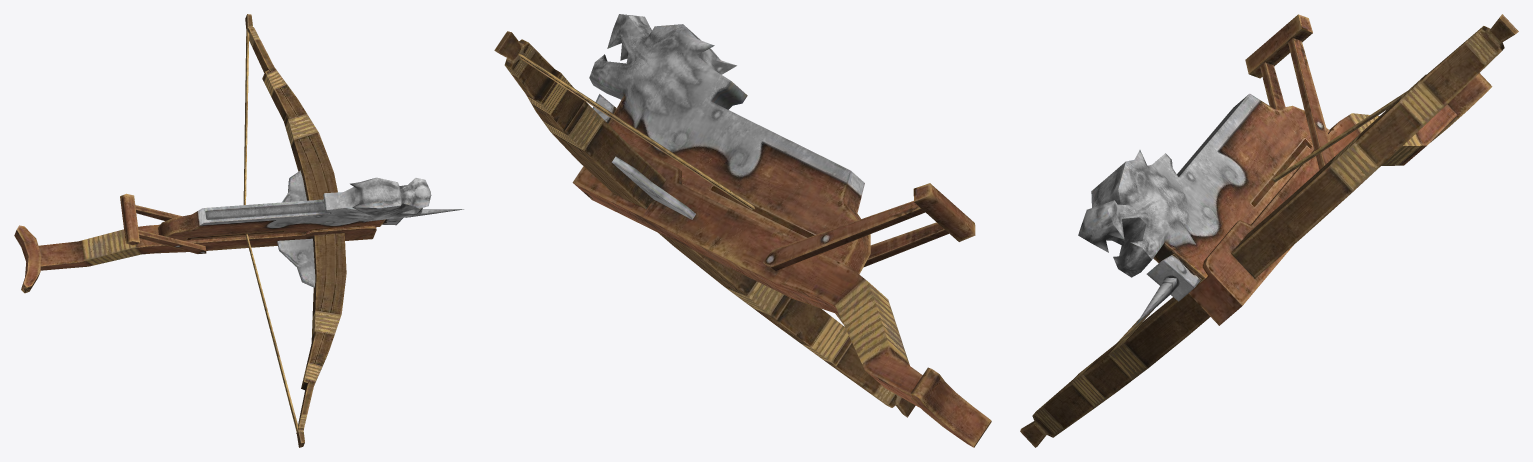
The model's file is weapon-ironweapons.glb.
3 renders of one model, left to right at view 1: azimuth 30°, elevation 25°; view 2: azimuth 150°, elevation 25°; view 3: azimuth 270°, elevation 25°, orthographic. The views are drawn at different scales.
Size of the model in its own units: 1.02 by 0.8389 by 0.7521.
1 material, 1 textured.
